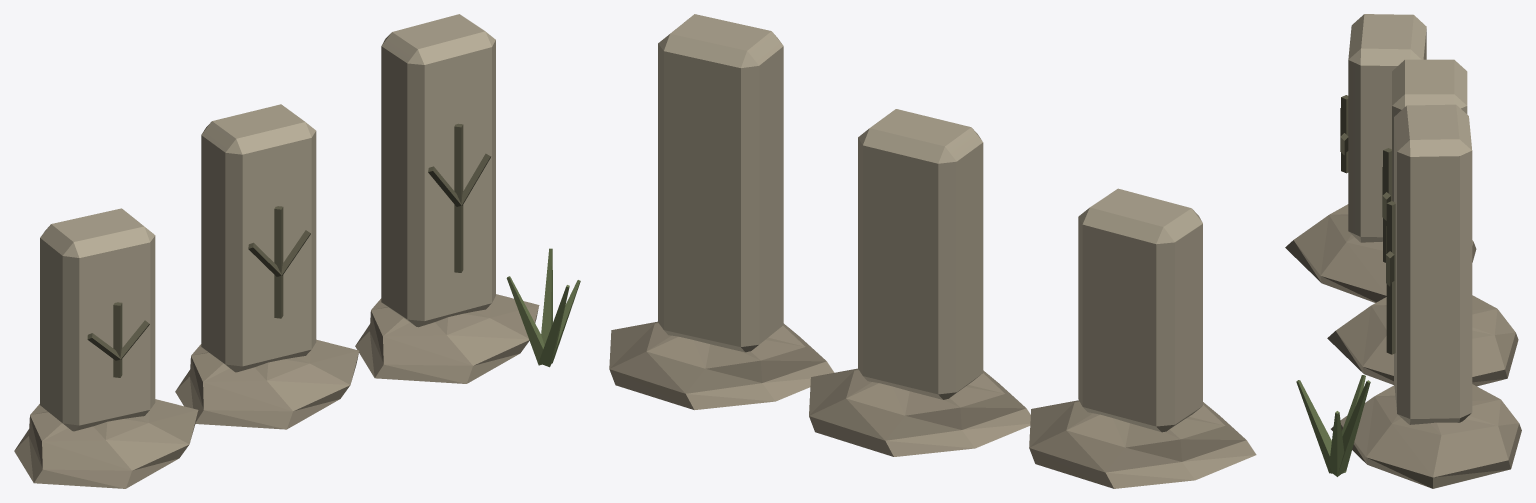
Rendered from votive-markers.glb.
The picture shows the model from 3 angles, left to right: view 1: azimuth 30°, elevation 25°; view 2: azimuth 150°, elevation 25°; view 3: azimuth 270°, elevation 25°; orthographic projection. The views are drawn at different scales.
Visible parts, largest first — view 1: votive-markers; view 2: votive-markers; view 3: votive-markers.
Boxes of the visible parts, bbox=[...] form: votive-markers: bbox=[14, 14, 580, 488]; votive-markers: bbox=[609, 14, 1256, 488]; votive-markers: bbox=[1285, 14, 1521, 488].
Bounding box in the file's own units: 1.81 × 0.9908 × 0.6623.
